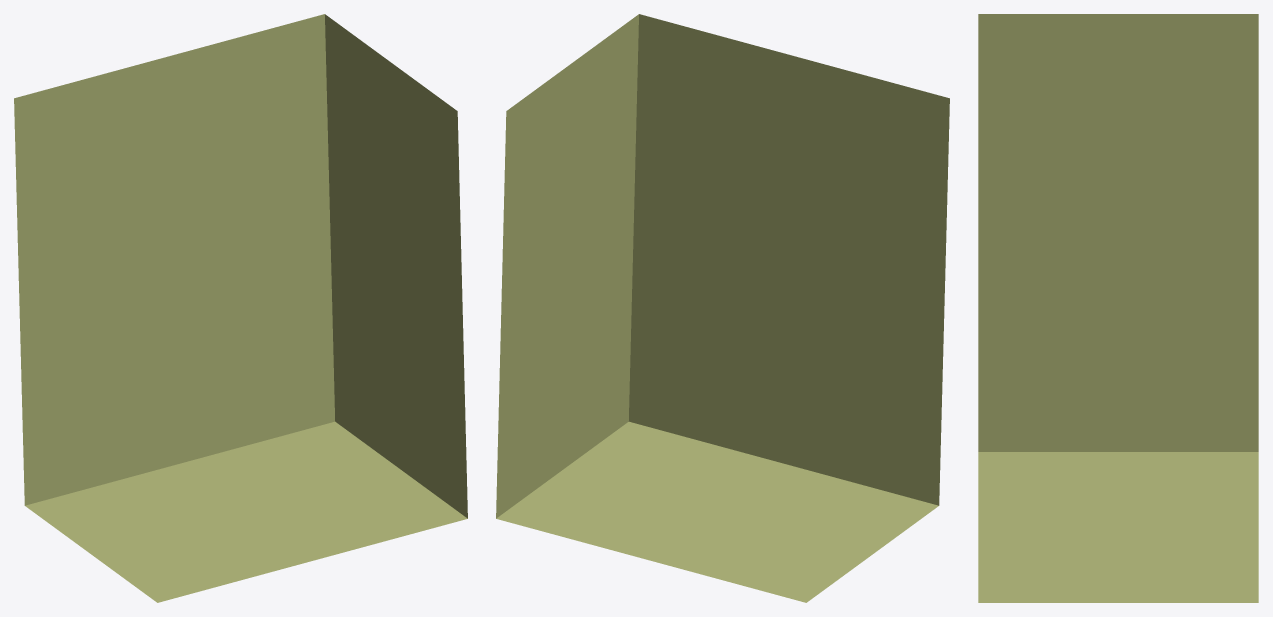
3 views of the same model, side by side, from view 1: azimuth 30°, elevation 25°; view 2: azimuth 150°, elevation 25°; view 3: azimuth 270°, elevation 25° (orthographic). The views are drawn at different scales.
Parts seen in each view (by area): view 1: 0_2_3_3_3_1_3_1_3_2; view 2: 0_2_3_3_3_1_3_1_3_2; view 3: 0_2_3_3_3_1_3_1_3_2.
Part boxes in pixels (x1=…): 0_2_3_3_3_1_3_1_3_2: x1=14, y1=14, x2=467, y2=602; 0_2_3_3_3_1_3_1_3_2: x1=496, y1=14, x2=949, y2=602; 0_2_3_3_3_1_3_1_3_2: x1=978, y1=14, x2=1258, y2=602.
Size of the model in its own units: 8.38 by 10.43 by 6.
